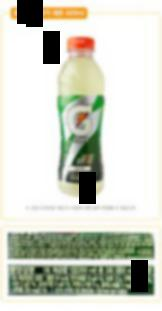gatorade_lemon: (46, 30, 122, 198)
